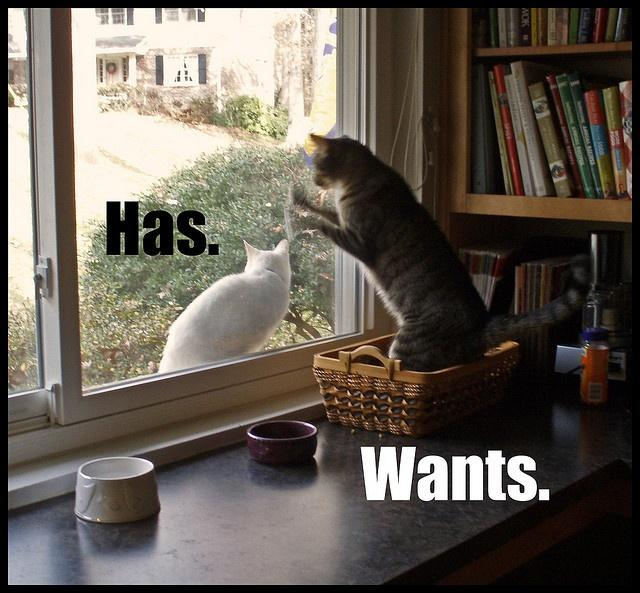Rak: (448, 0, 639, 217)
